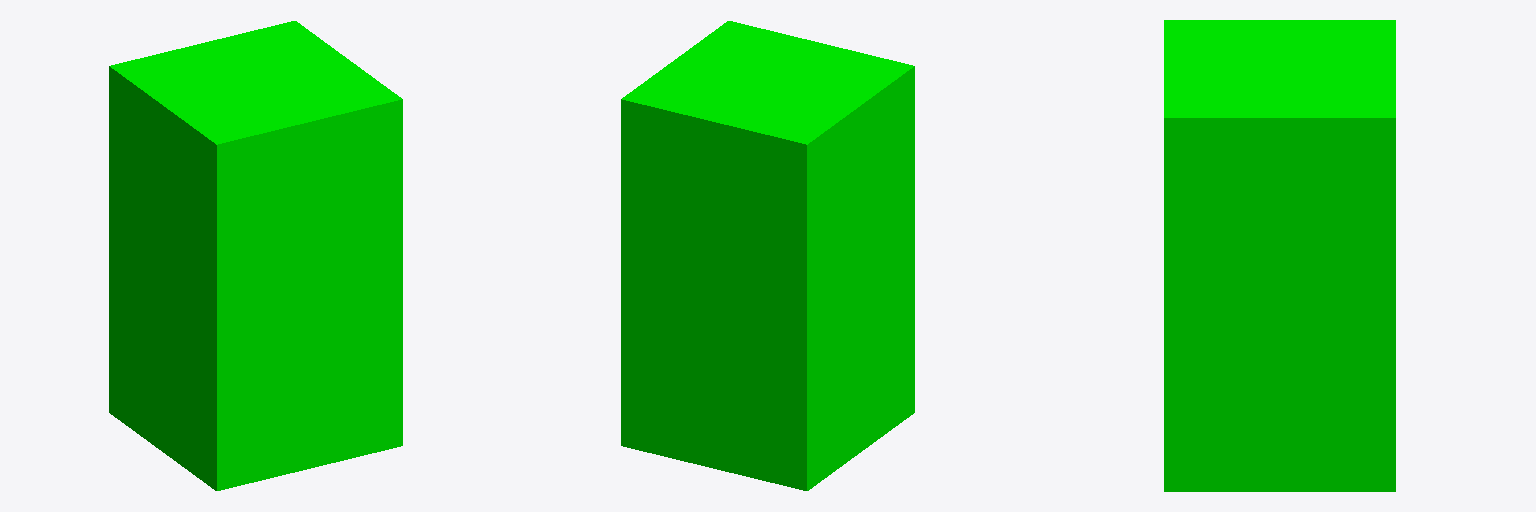
robot.urdf — cuboid_non_target:
<robot name="cuboid_non_target">
  <material name="green"><color rgba="0.0 1.0 0.0 1"/></material>
  <link name="base">
    <inertial>
      <mass value="1.0" />
      <origin xyz="0 0 0.0" /> 
      <inertia  ixx="0.01" ixy="0.0"  ixz="0.0"  iyy="0.01"  iyz="0.0"  izz="0.01" />
    </inertial>
    <visual>
      <origin xyz="0 0 0" rpy="0 0 0" />
      <geometry>
        <mesh filename="cuboid.obj" scale="1.5 1.5 1"/>
      </geometry>
      <material name="green"/>
    </visual>
    <collision>
      <origin xyz="0 0 0" rpy="0 0 0" />
      <geometry>
        <mesh filename="cuboid.obj" scale="1.5 1.5 1"/>
      </geometry>
    </collision>
  </link>
</robot>

--- What the picture shows (computed from the rendered views, not written in the file) ---
Views: 3 orthographic renders of the robot side by side, from view 1: azimuth 30°, elevation 25°; view 2: azimuth 150°, elevation 25°; view 3: azimuth 270°, elevation 25°.
Robot: cuboid_non_target — 1 links, 0 joints (none); root link base; default pose: every joint at zero.
Links seen in each view (by area): view 1: base; view 2: base; view 3: base.
Link boxes in pixels (bbox=[...]): base: bbox=[109, 21, 402, 490]; base: bbox=[621, 21, 914, 490]; base: bbox=[1164, 20, 1395, 491].
Size in the robot's own frame: 0.045 by 0.045 by 0.08 metres.
1 mesh visuals loaded from 1 distinct referenced files (1 OBJ).